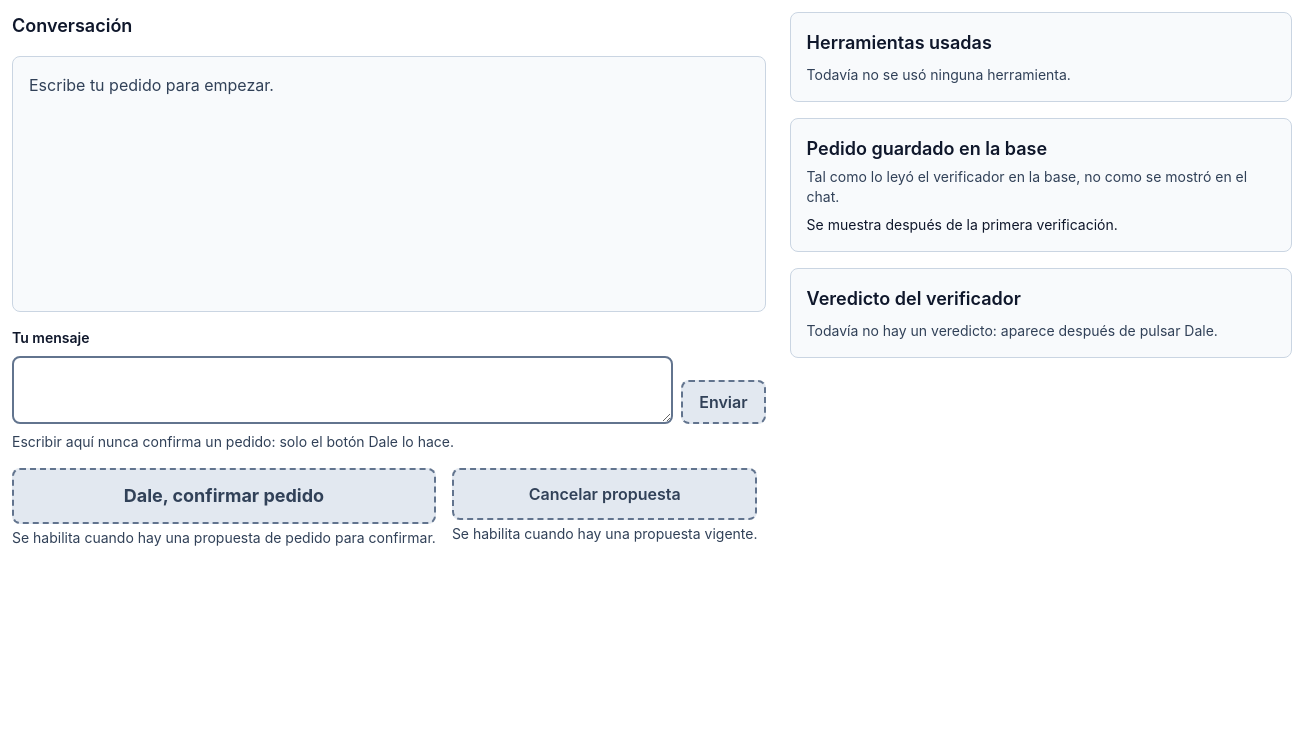
Test: async states (S16.1) › shows the host's catalog message as an alert and frees the page for a retry
Step 1. Type "dos harinas" into the text box labelled "Tu mensaje" → (343, 390), box [12,356,673,424]
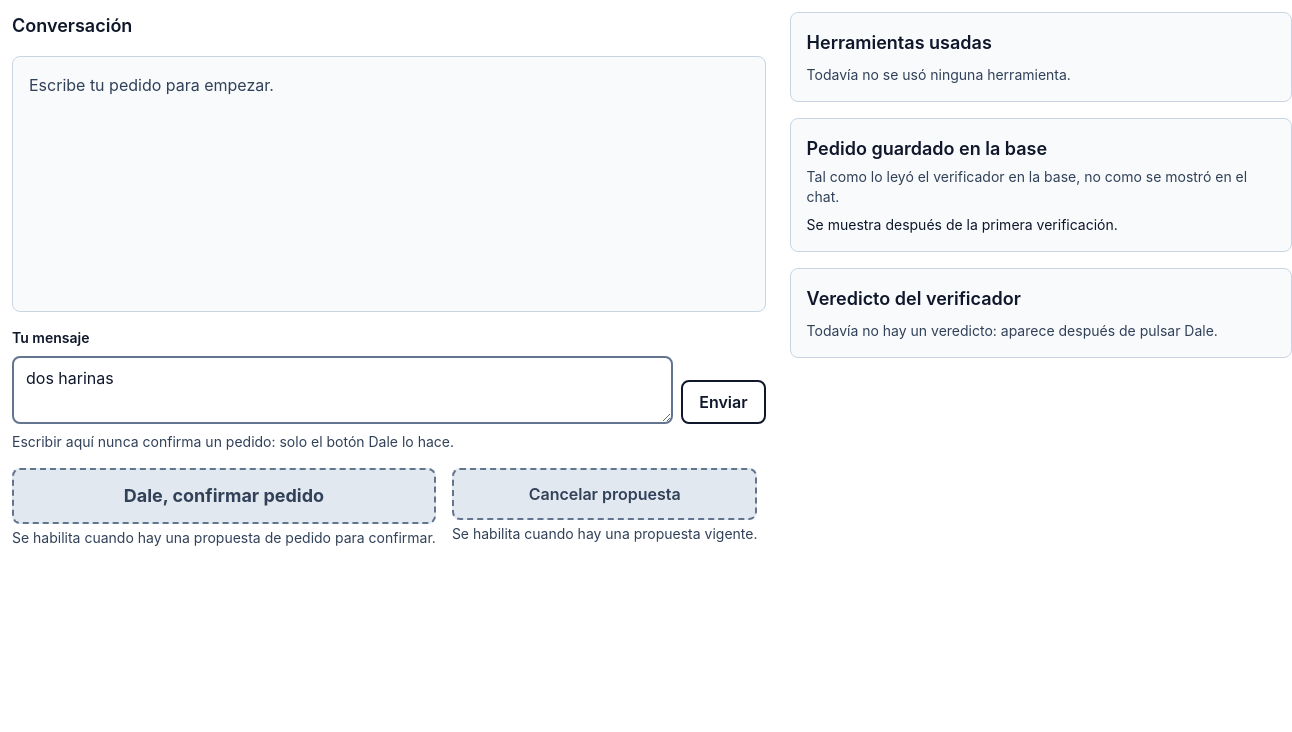
Step 2. Click the button "Enviar" → (723, 402), box [681,380,766,424]
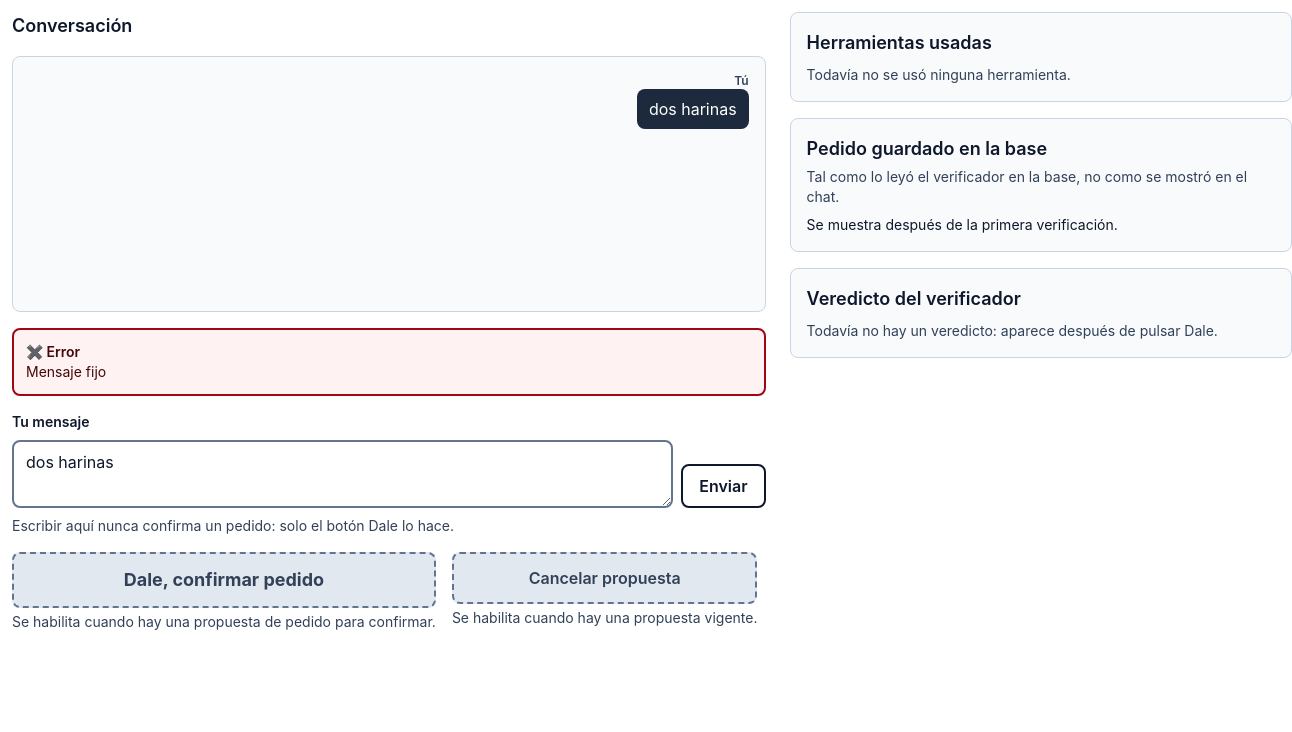
Expected: the button "Enviar" is shown, [681,464,766,508]
Result: the message shows "Mensaje fijo" at [26,363,106,380]
